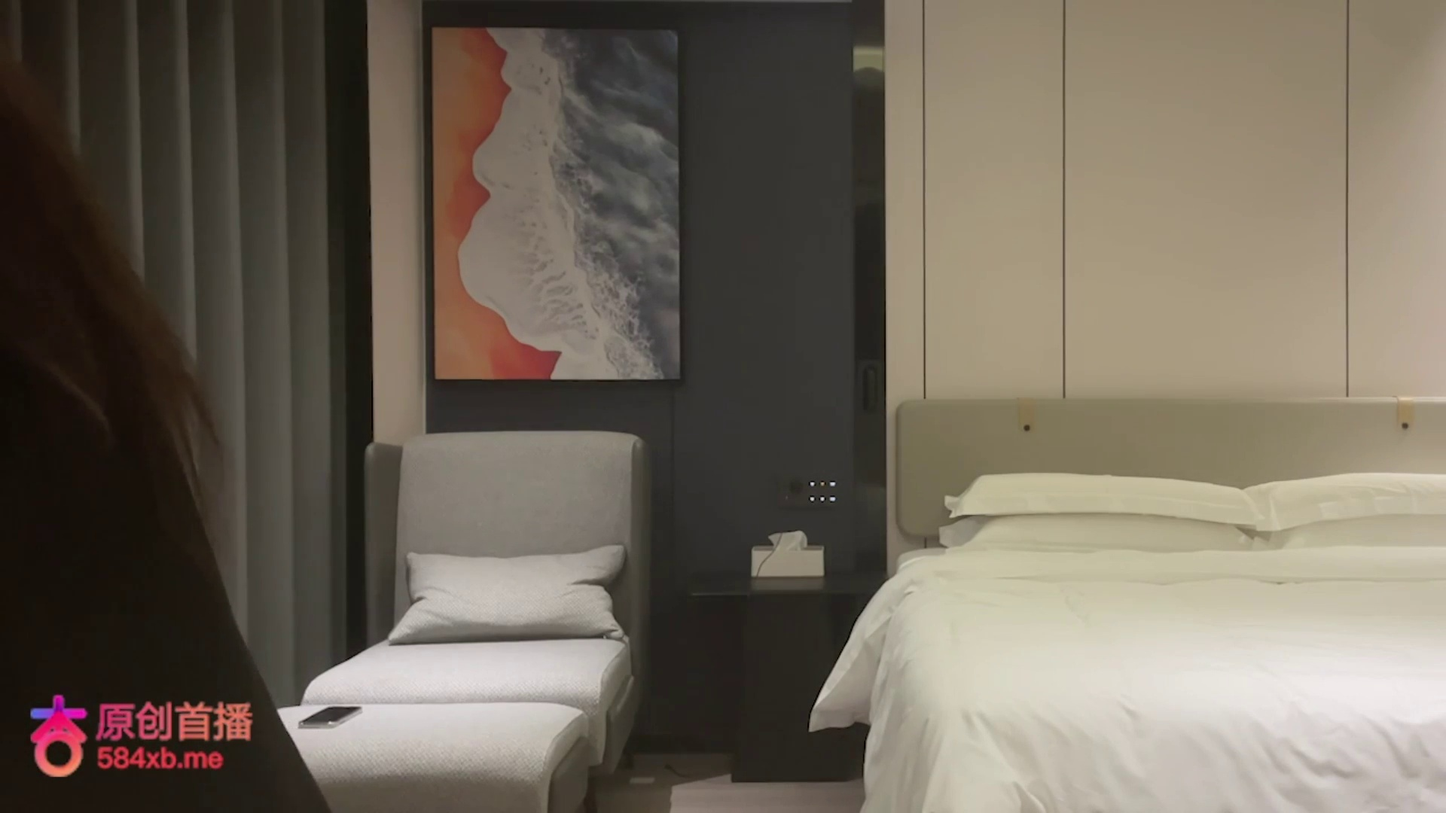stand: (1, 44, 331, 801)
